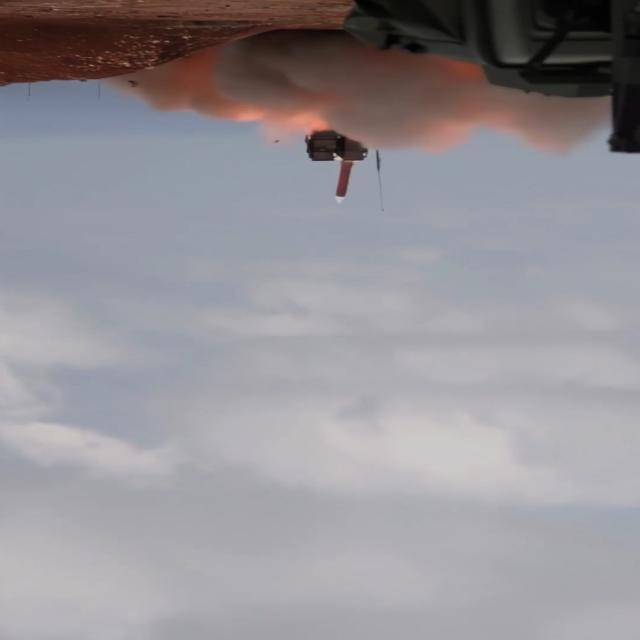missile: (332, 155, 354, 203)
